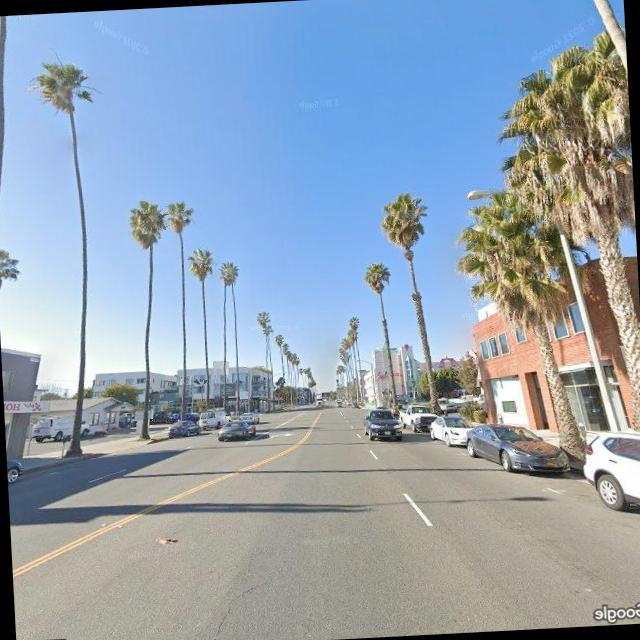pothole: (183, 572, 274, 640)
